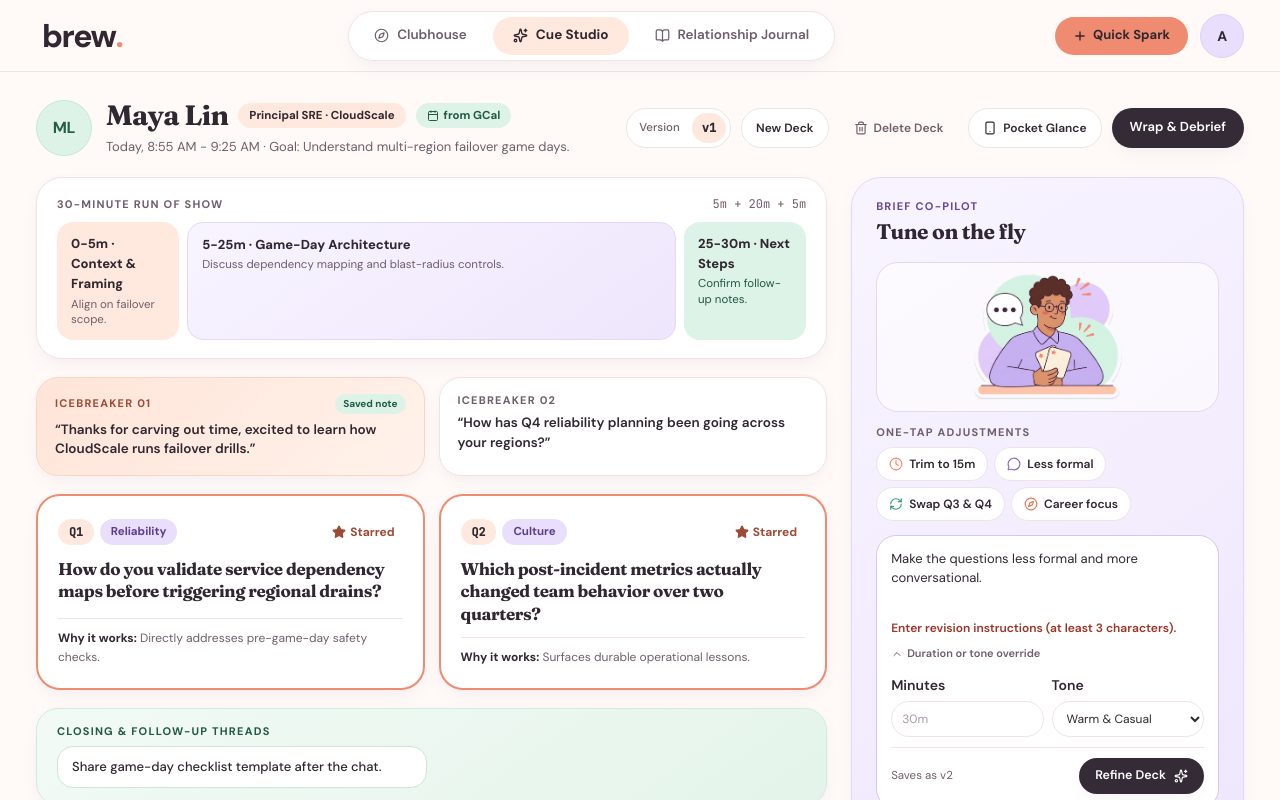
Scenario: Brew Test Pyramid: v2 Frontend Journeys, States, Memory Governance, and Revisions › 4. Revision interactions: field validation, preset chips, v1->v2->v3 archived snapshot lock, and 409 Reload Latest Version
The image size is (1280, 800).
Earlier steps of the test are not shown.
Later steps or results of the test are not shown.
Type "2" into the number field labelled "Minutes" at (967, 719), box [891,701,1044,737]
Click the button "Refine Deck" at (1142, 776), box [1079,758,1204,794]
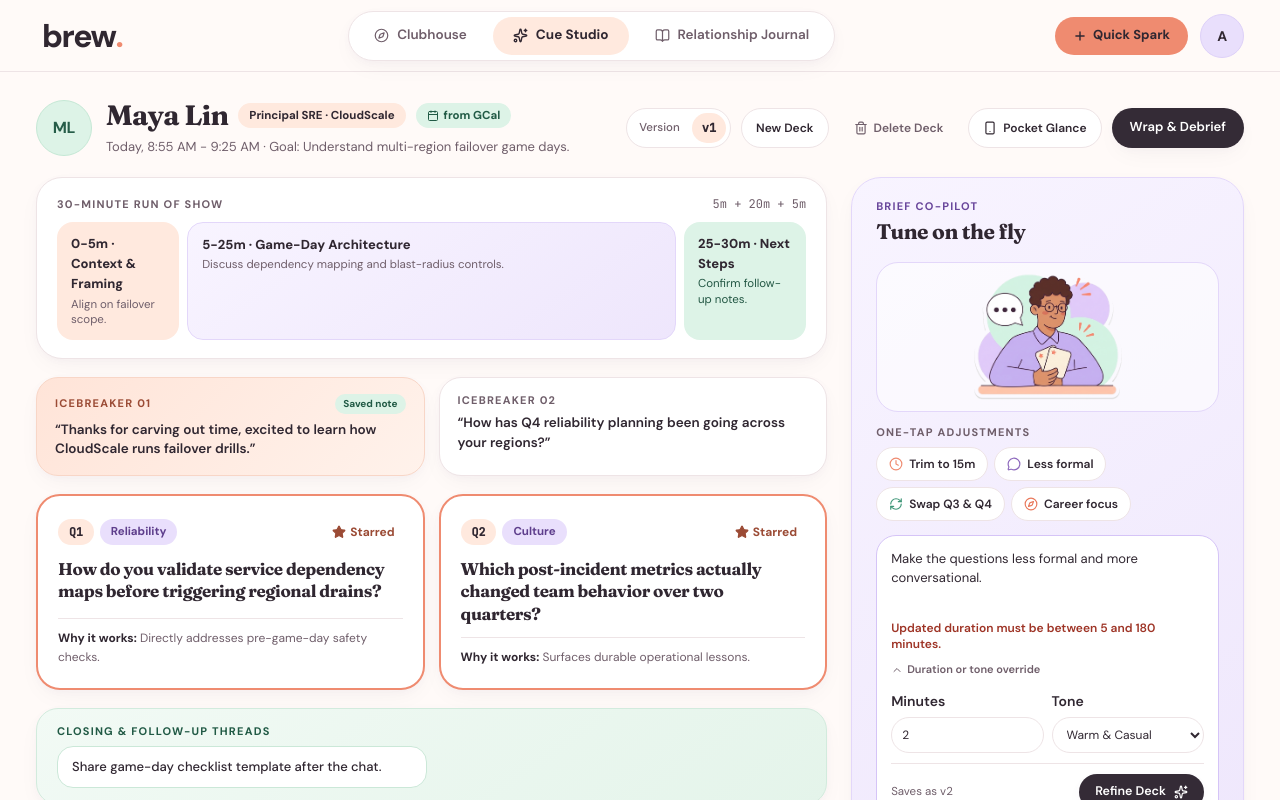
Result: the text "Updated duration must be between 5 and 180 minutes." is shown at [891,620,1155,652]
Clear the number field labelled "Minutes" at (967, 735), box [891,717,1044,753]
(page scrolled)
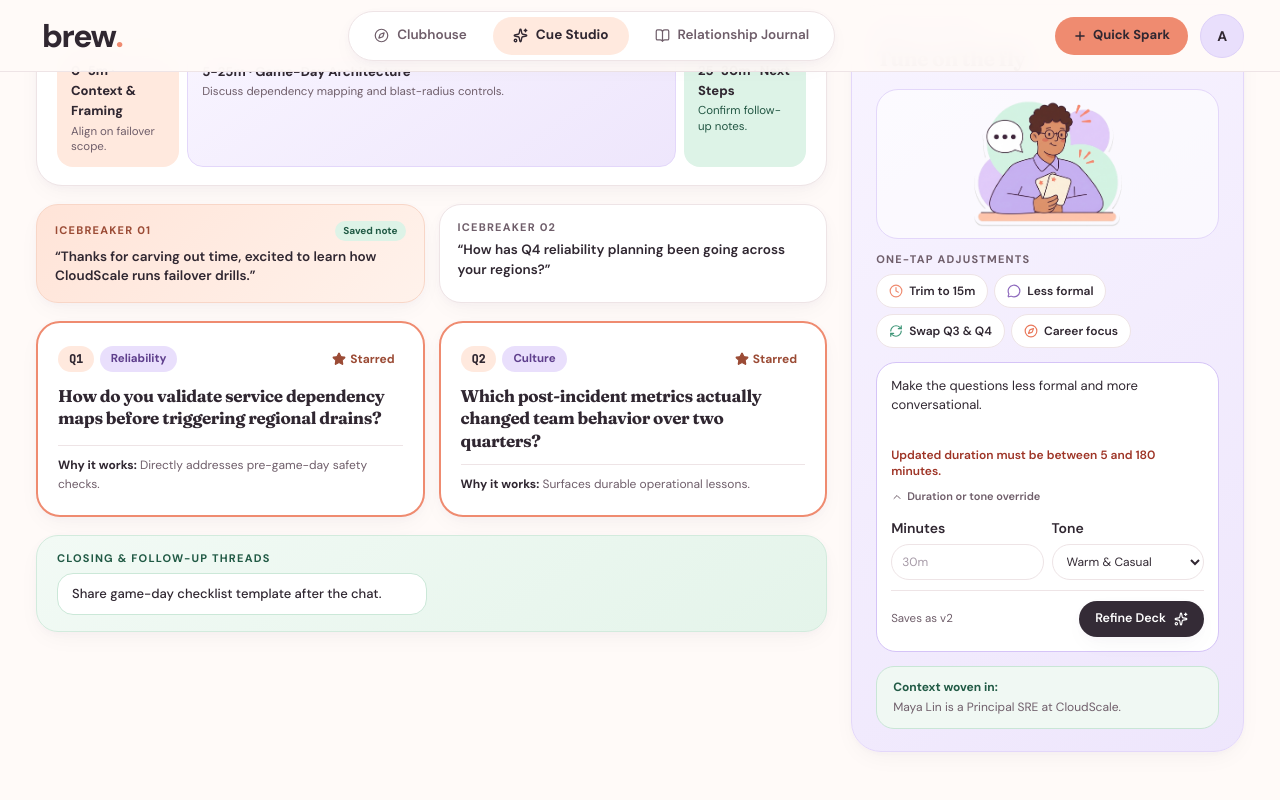
Click the button "Refine Deck" at (1142, 619), box [1079,601,1204,637]
(page scrolled)
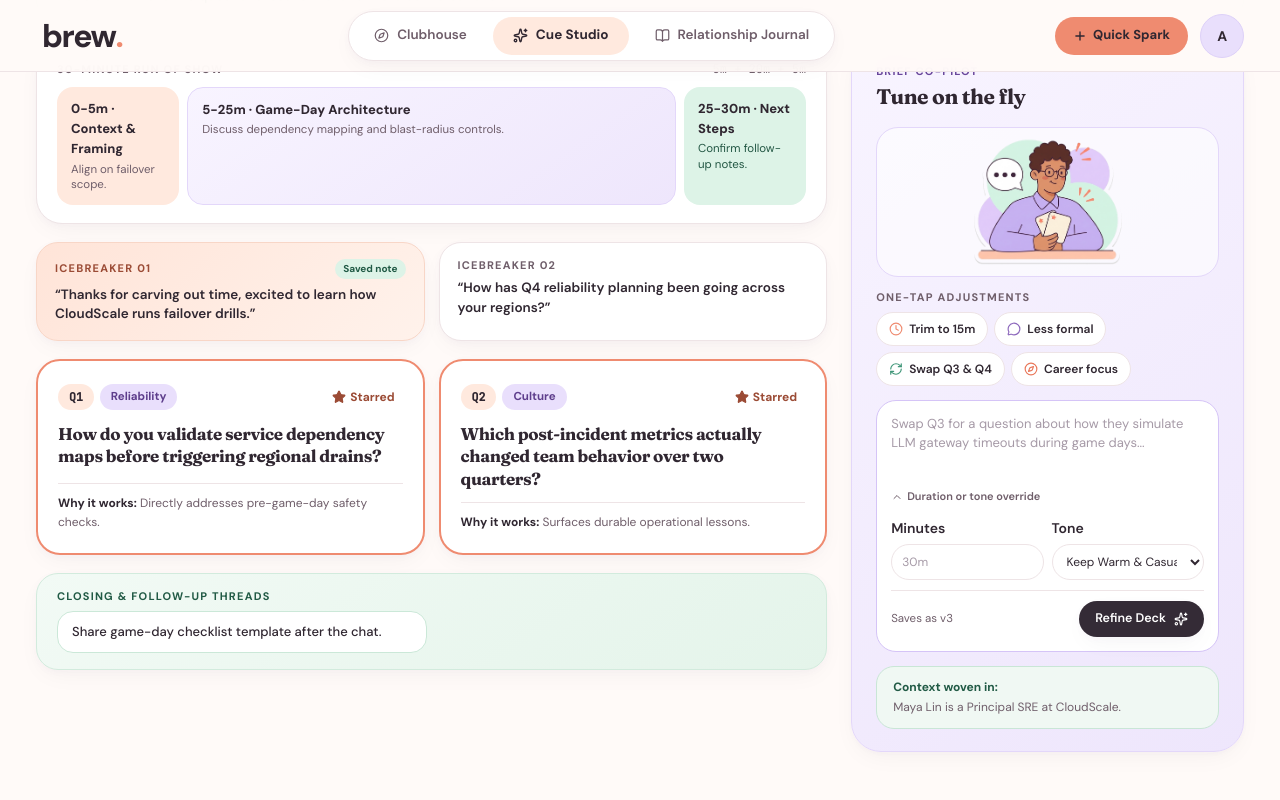
Click the button "Trim to 15m" at (932, 329), box [876,312,988,346]
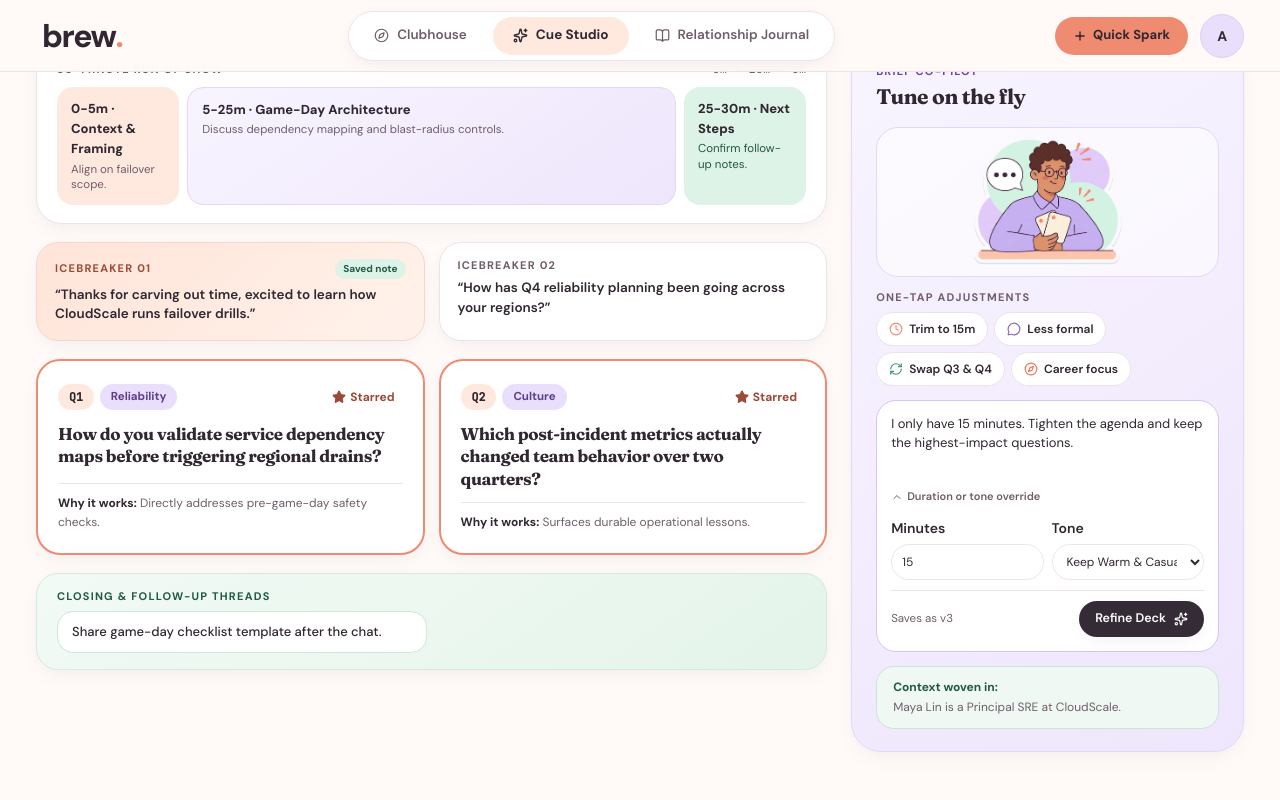
Click the button "Refine Deck" at (1142, 619), box [1079,601,1204,637]
(page scrolled)
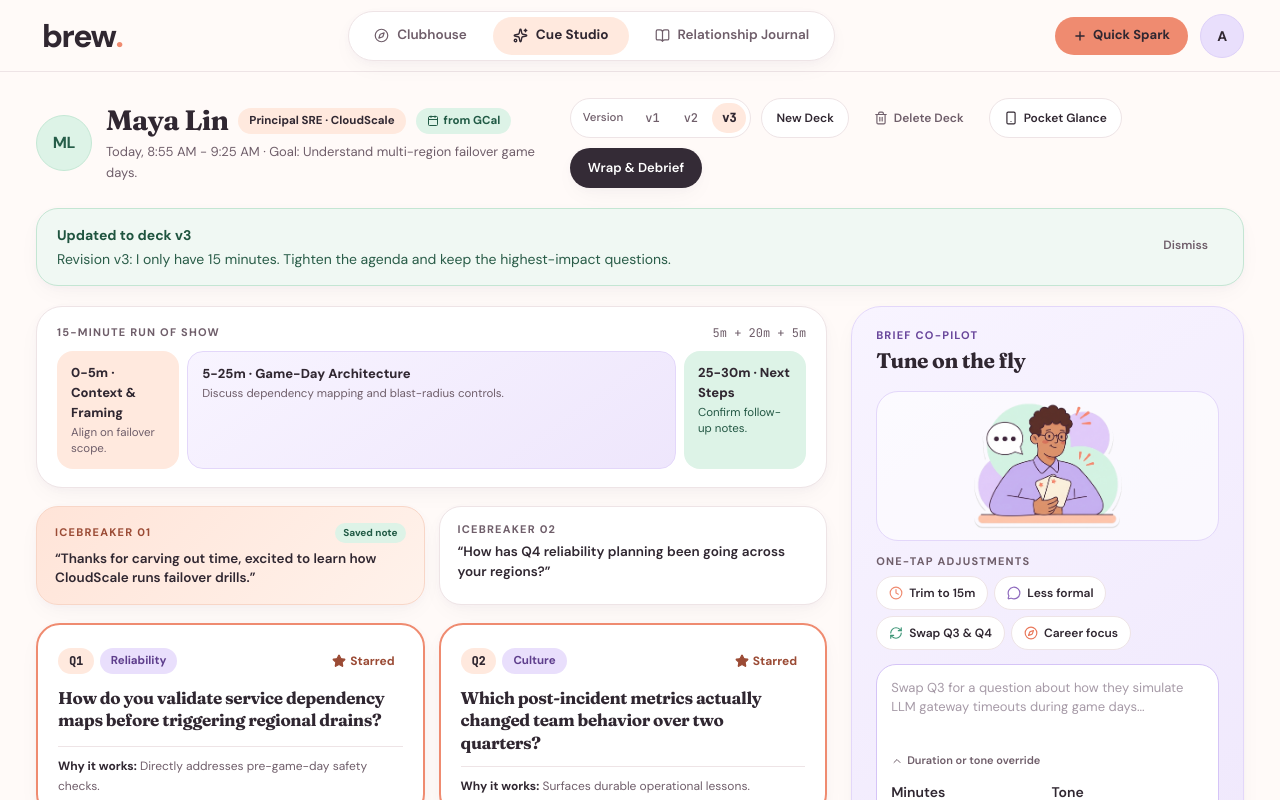
Result: the text "Updated to deck v3" is shown at [57,226,191,244]
Result: the text "15-MINUTE RUN OF SHOW" is shown at [57,326,220,340]
Click the button "v1" at (652, 118), box [635,103,670,133]
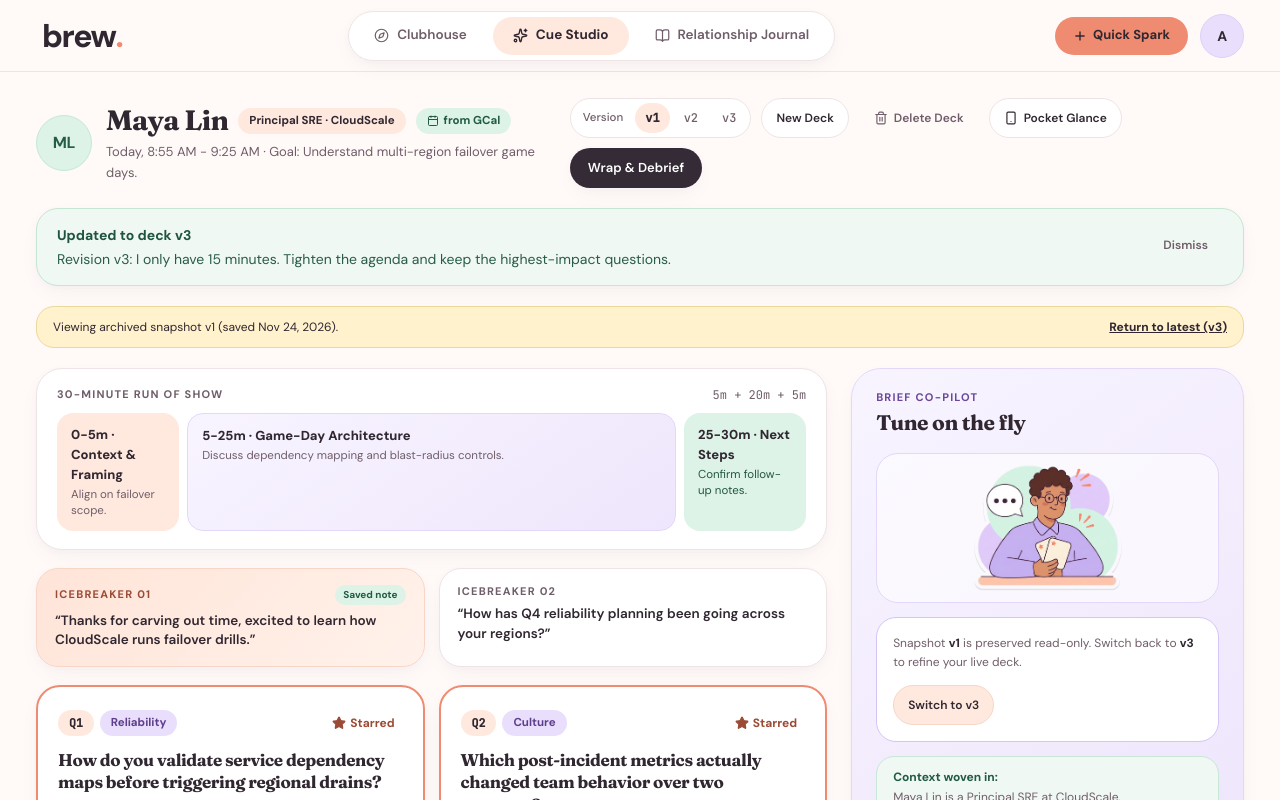
Result: the text "Viewing archived snapshot v1 (saved Nov 24, 2026)." is shown at [53,319,338,335]
